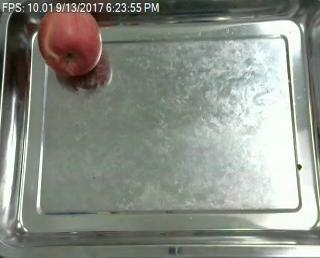apple: (38, 12, 102, 76)
